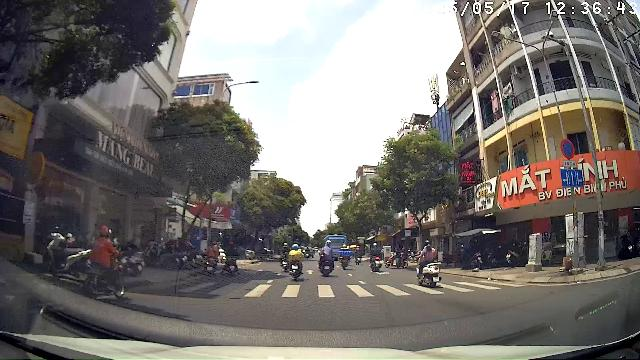131a-cam-do-xe: (560, 139, 576, 159)
